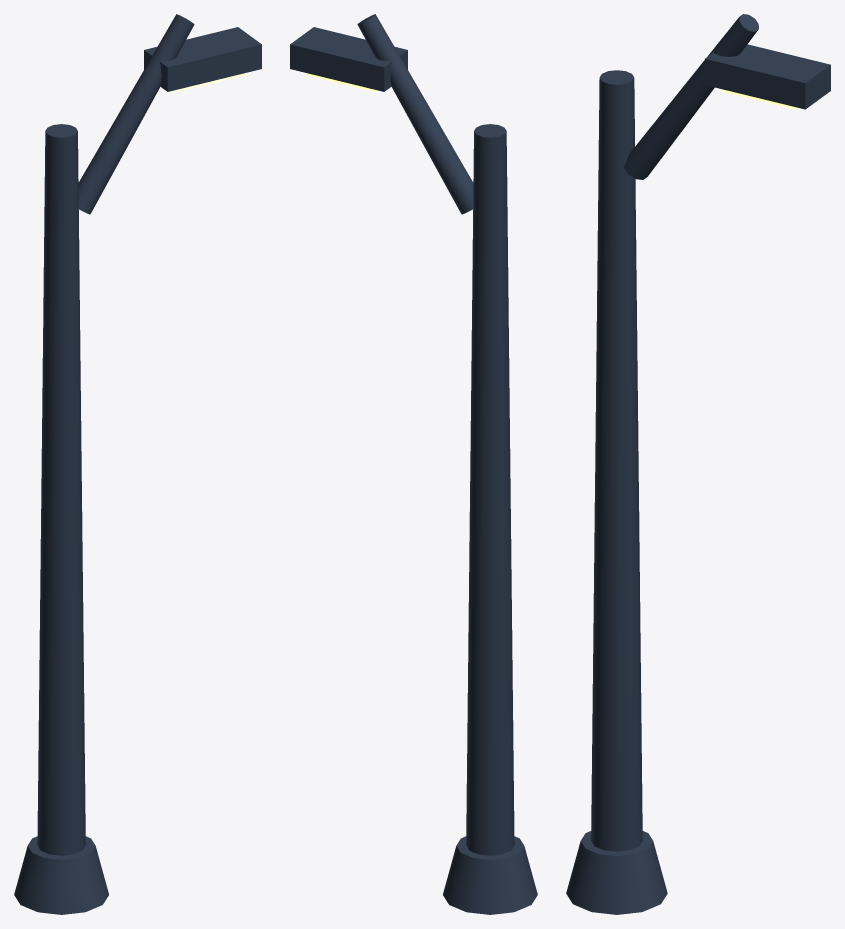
File: env_streetlight_01.glb
The picture shows the model from 3 angles, left to right: view 1: azimuth 30°, elevation 25°; view 2: azimuth 150°, elevation 25°; view 3: azimuth 330°, elevation 25°; orthographic projection. The views are drawn at different scales.
Visible parts, largest first — view 1: env_streetlight_01; view 2: env_streetlight_01; view 3: env_streetlight_01.
Boxes of the visible parts, x1=… form: env_streetlight_01: x1=14, y1=14, x2=261, y2=914; env_streetlight_01: x1=290, y1=14, x2=537, y2=914; env_streetlight_01: x1=566, y1=14, x2=830, y2=914.
Size of the model in its own units: 1.95 by 6.9 by 0.7.
